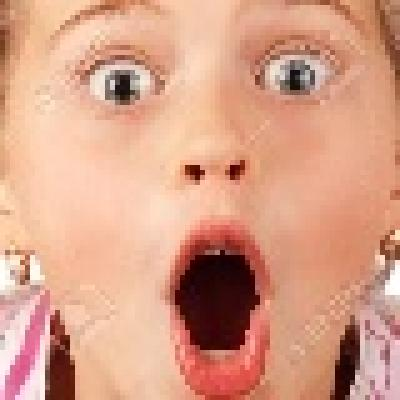surprise: (27, 0, 392, 388)
